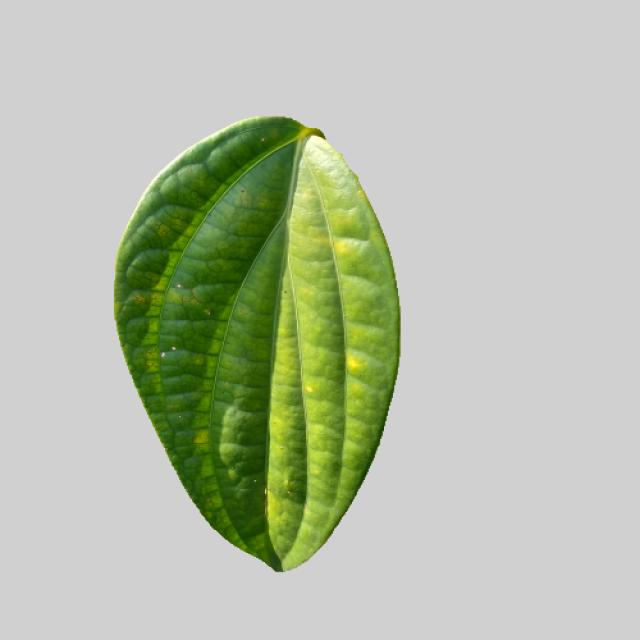healthy: (106, 112, 409, 581)
